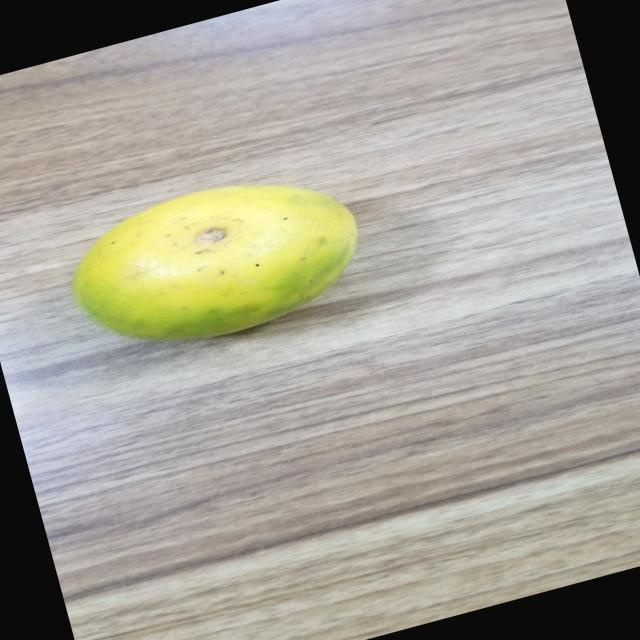agrume: (41, 144, 381, 376)
